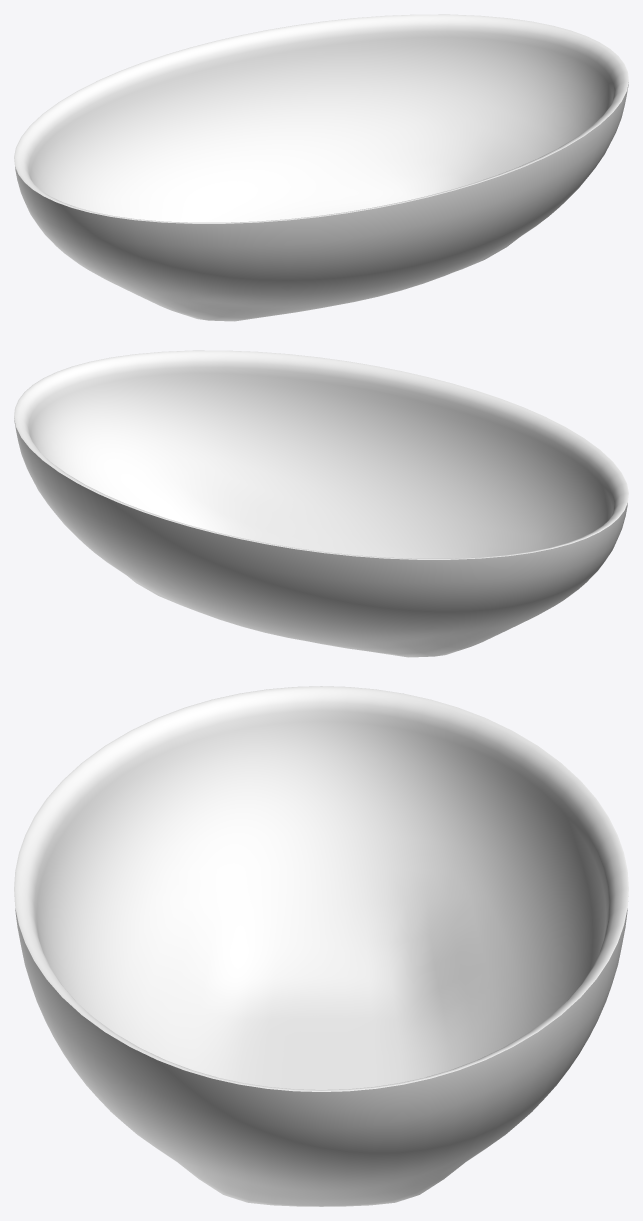
Rendered from HP_platter.obj.
The picture shows the model from 3 angles, top to bottom: view 1: azimuth 30°, elevation 25°; view 2: azimuth 150°, elevation 25°; view 3: azimuth 270°, elevation 25°; orthographic projection. The views are drawn at different scales.
Visible parts, largest first — view 1: HP_platter.001; view 2: HP_platter.001; view 3: HP_platter.001.
Boxes of the visible parts, box(x1,y1,x2,y2) form: HP_platter.001: box(14, 14, 628, 321); HP_platter.001: box(14, 350, 628, 657); HP_platter.001: box(14, 686, 628, 1206).
Bounding box in the file's own units: 0.2318 × 0.0583 × 0.1484.
